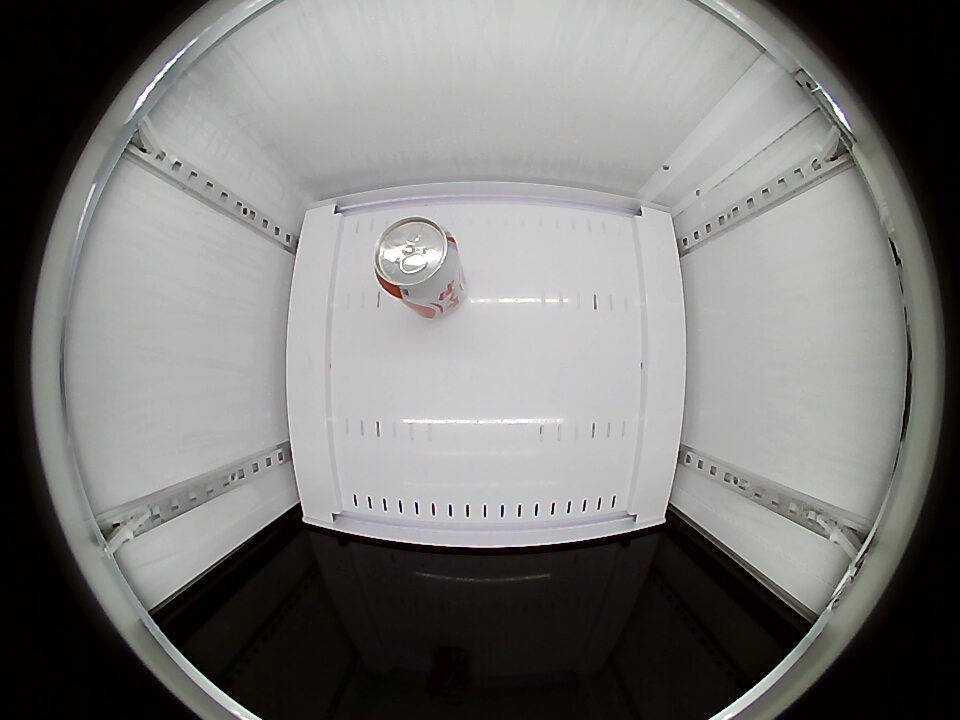jianlibao: (373, 216, 461, 305)
